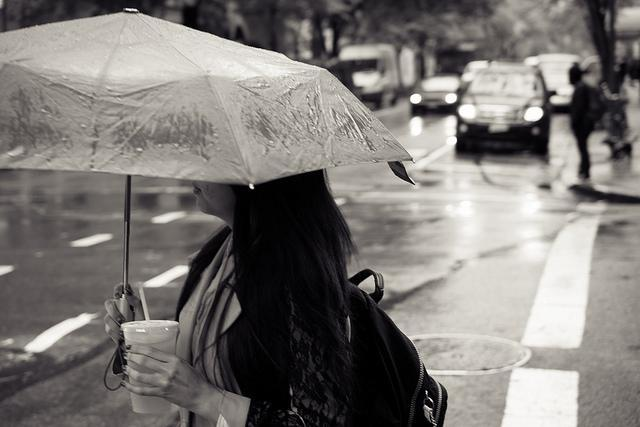car: (456, 61, 557, 153), (525, 52, 583, 108), (409, 72, 461, 116), (460, 58, 490, 92)
truck: (324, 44, 402, 106)
